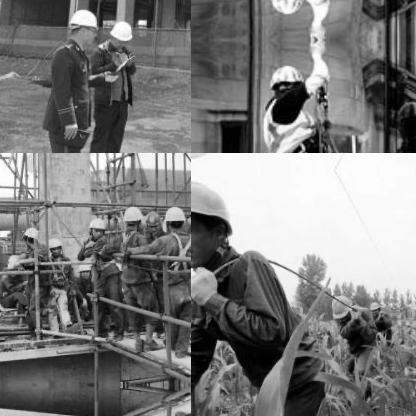Helmet: (191, 168, 241, 273), (66, 6, 100, 44), (268, 64, 298, 98), (107, 18, 129, 48), (163, 203, 185, 232), (331, 292, 353, 321), (122, 202, 142, 230), (143, 210, 161, 234), (267, 0, 299, 13), (21, 224, 39, 246), (86, 216, 104, 238), (75, 257, 93, 277), (47, 233, 62, 255), (367, 298, 381, 316)
